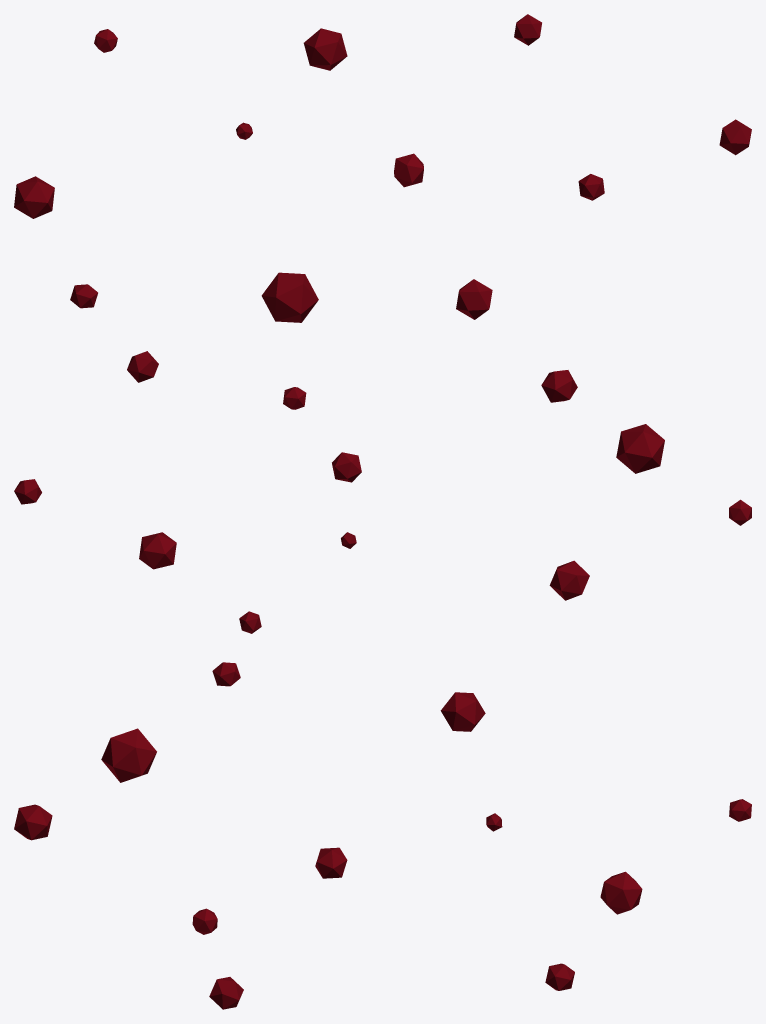
The model's file is Chorizo.glb.
3 views of the same model, one above another, from view 1: azimuth 30°, elevation 25°; view 2: azimuth 150°, elevation 25°; view 3: azimuth 270°, elevation 25° (orthographic). The views are drawn at different scales.
Parts seen in each view (by area): view 1: Chorizo; view 2: Chorizo; view 3: Chorizo.
Boxes of the visible parts, bbox=[...] form: Chorizo: bbox=[14, 14, 751, 322]; Chorizo: bbox=[14, 351, 751, 633]; Chorizo: bbox=[14, 662, 751, 1009].
Size of the model in its own units: 3.88 by 0.2602 by 3.66.
